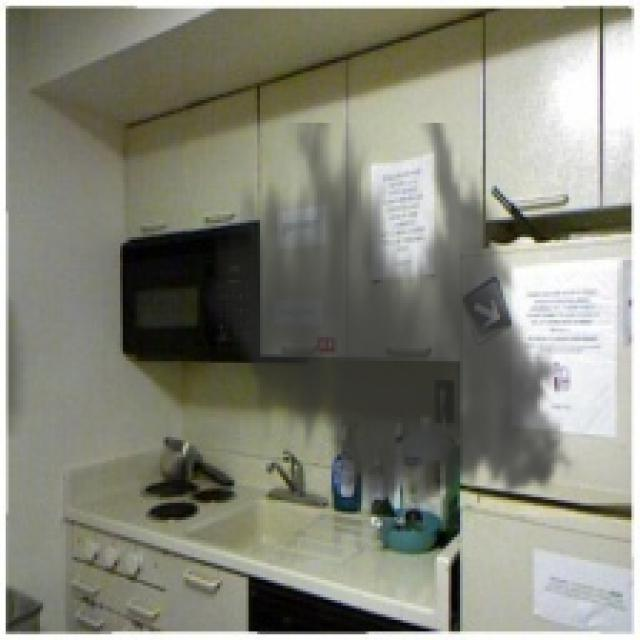smoke: (191, 123, 583, 528)
